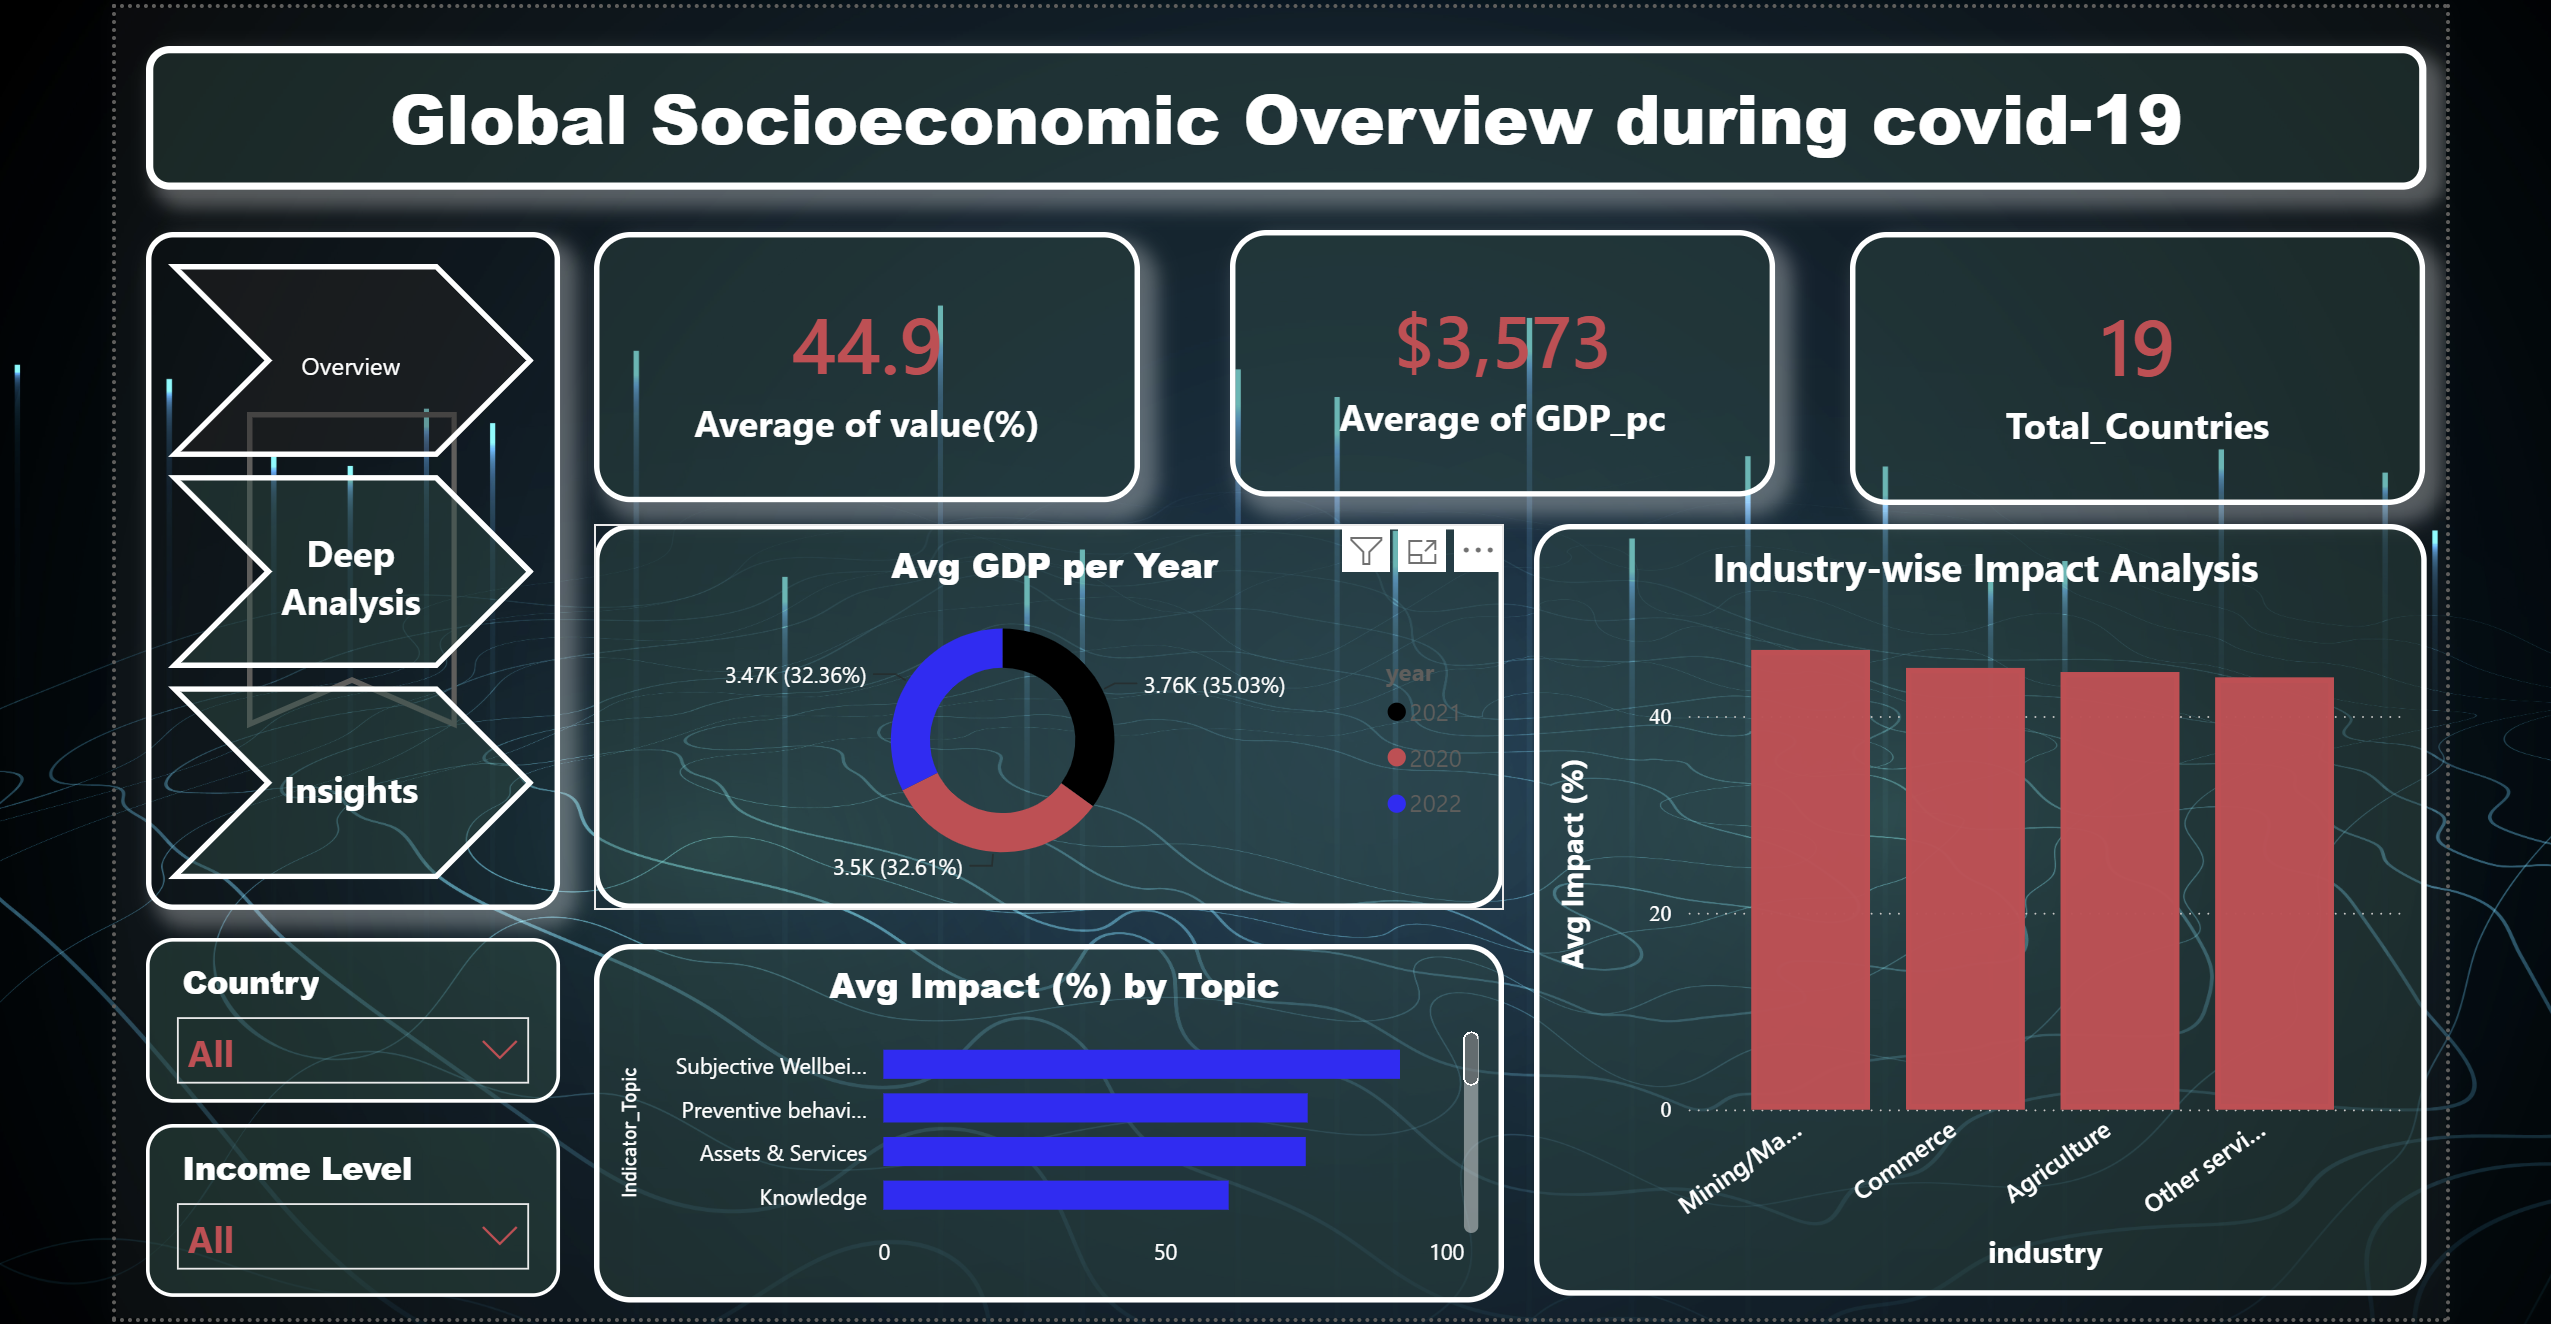

The page's visual inventory and layout, read from the dashboard file:
{"tool":"powerbi","page":{"name":" Overview","canvas":[1280,720],"ordinal":0},"visuals":[{"type":"textbox","box":[16.1,21,1253.2,79],"z":0},{"type":"card","fields":{"Values":["select","Avg(Sheet1.value(%))"]},"box":[262.9,122.6,300,148.4],"z":1000},{"type":"card","fields":{"Values":["Avg(Sheet1.GDP_pc)"]},"box":[612,122.4,299.6,146.6],"z":2000},{"type":"card","fields":{"Values":["Sheet1.Total_Countries"]},"box":[953.2,122.6,316.1,150],"z":3000},{"type":"clusteredColumnChart","title":"Industry-wise Impact Analysis","fields":{"Category":["Sheet1.industry"],"Y":["Avg(Sheet1.value(%))"]},"box":[779,283.9,490.3,424.2],"z":4000},{"type":"slicer","fields":{"Values":["Sheet1.country"]},"box":[16.1,511.3,227.4,90.3],"z":5000},{"type":"actionButton","box":[16.1,122.6,227.4,372.6],"z":6000},{"type":"pageNavigator","box":[29,140.3,201.6,340.3],"z":7000},{"type":"slicer","fields":{"Values":["Sheet1.income_group"]},"box":[16.1,612.9,227.4,95.2],"z":8000},{"type":"donutChart","title":"Avg GDP per Year","fields":{"Category":["Sheet1.year"],"Y":["Avg(Sheet1.GDP_pc)"]},"box":[262.9,283.9,500,211.3],"z":9000},{"type":"clusteredBarChart","title":"Avg Impact (%) by Topic","fields":{"Category":["Sheet1.indicator_topic"],"Y":["Avg(Sheet1.value(%))"]},"box":[262.9,514.5,500,196.8],"z":10000}]}

Visuals, with their boxes in screenshot pixels (x1, y1, x2, y2):
textbox: 142,45,2411,188
card - select x Avg(Sheet1.value(%)): 589,229,1132,497
card - Avg(Sheet1.GDP_pc): 1221,228,1764,494
card - Sheet1.Total_Countries: 1839,229,2411,500
"Industry-wise Impact Analysis" clusteredColumnChart: 1523,521,2411,1289
slicer - Sheet1.country: 142,932,554,1096
actionButton: 142,229,554,903
pageNavigator: 165,261,530,877
slicer - Sheet1.income_group: 142,1116,554,1289
"Avg GDP per Year" donutChart: 589,521,1494,903
"Avg Impact (%) by Topic" clusteredBarChart: 589,938,1494,1295
